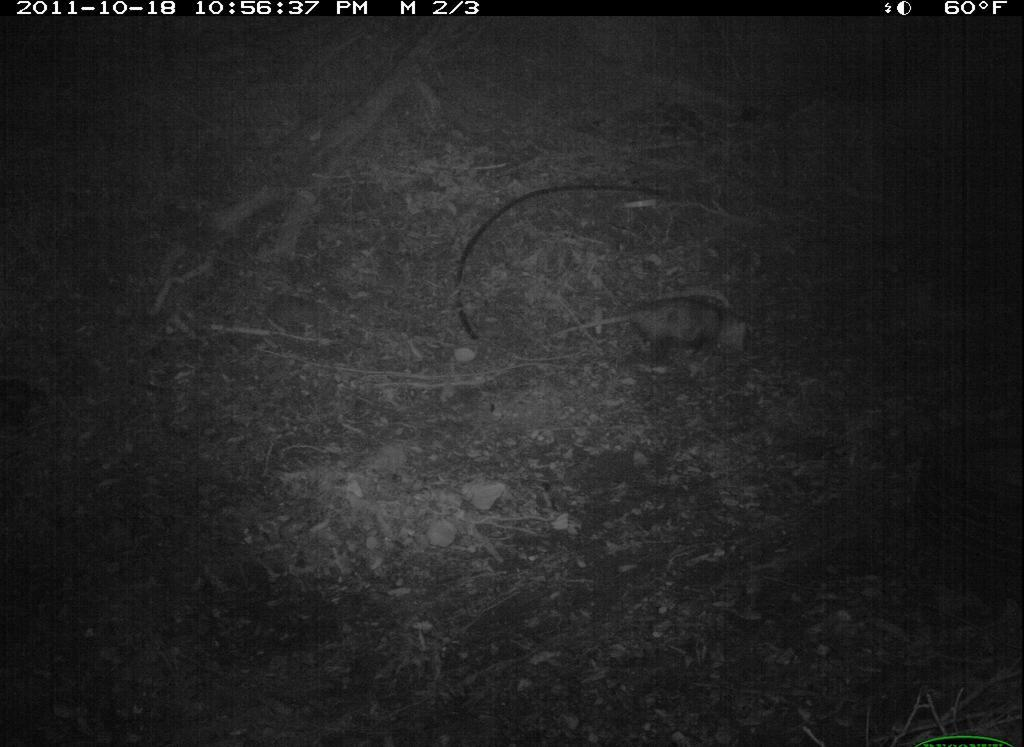opossum: (551, 281, 767, 393)
